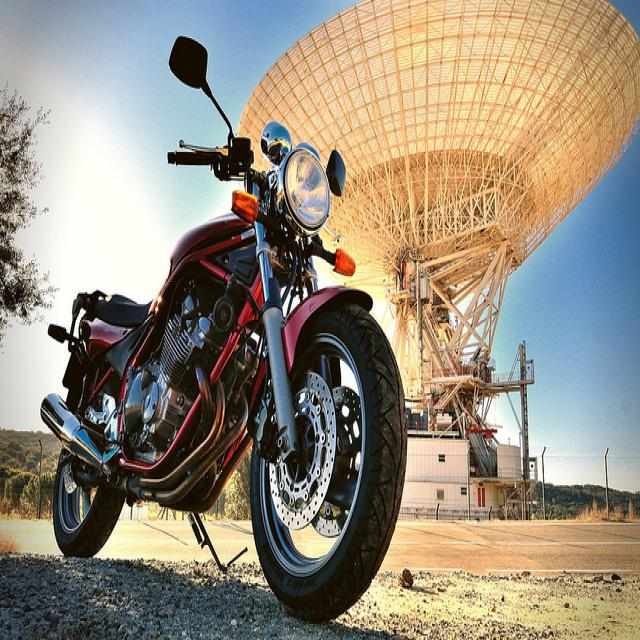motor: (41, 36, 406, 621)
